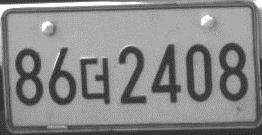0: (185, 44, 214, 102)
2: (116, 46, 148, 104)
4: (150, 43, 182, 104)
6: (46, 46, 78, 106)
8: (218, 41, 249, 102), (13, 47, 45, 106)
더: (78, 56, 113, 107)
